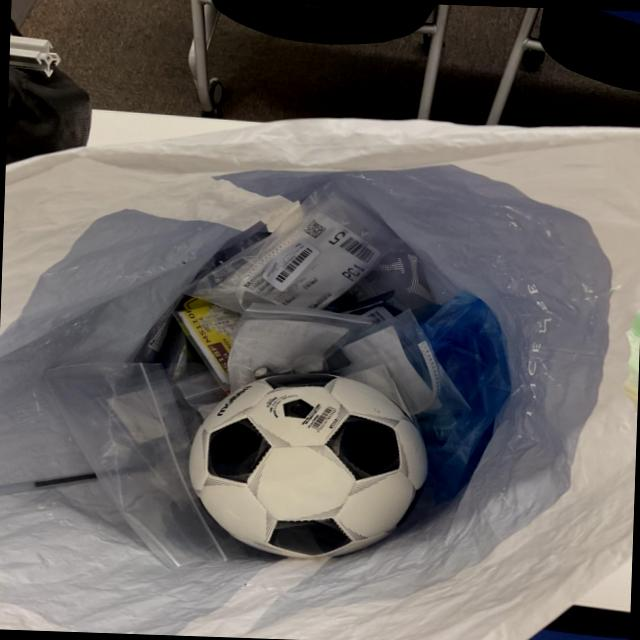Soccer Ball: (188, 368, 436, 565)
